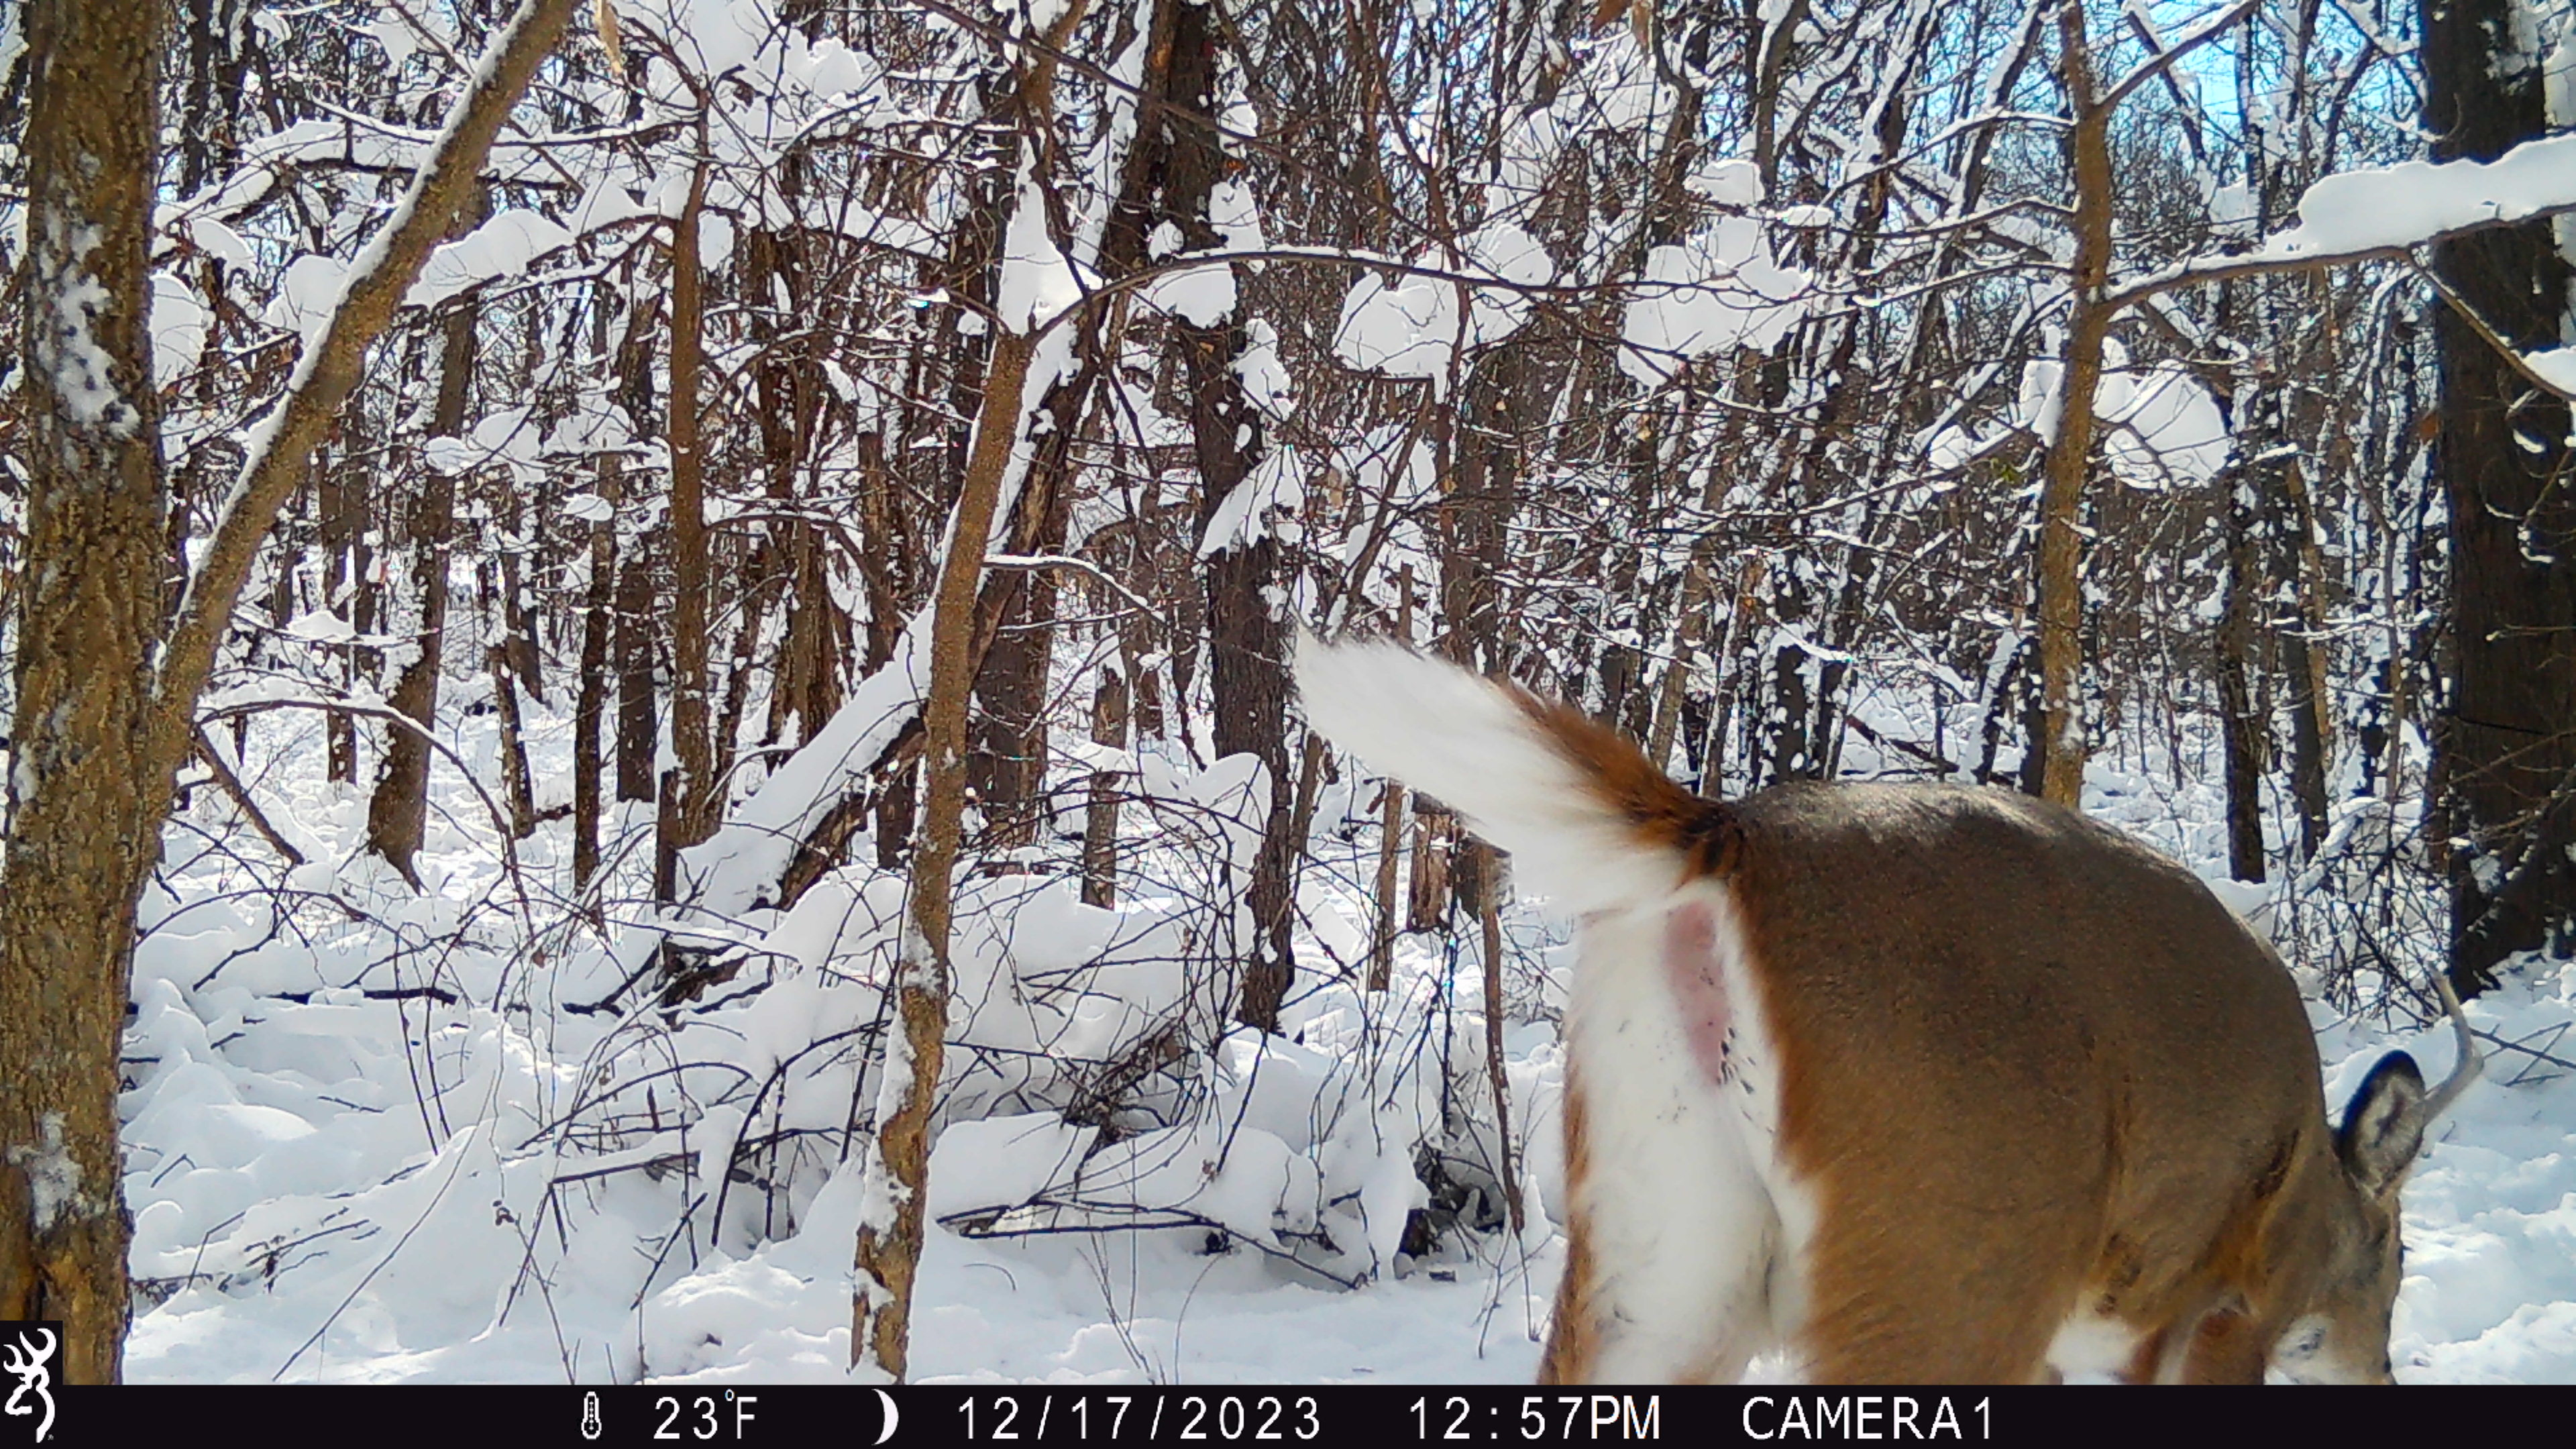DeerBuck: (1287, 625, 2486, 1385)
DeerBuckHead: (2306, 956, 2487, 1383)
